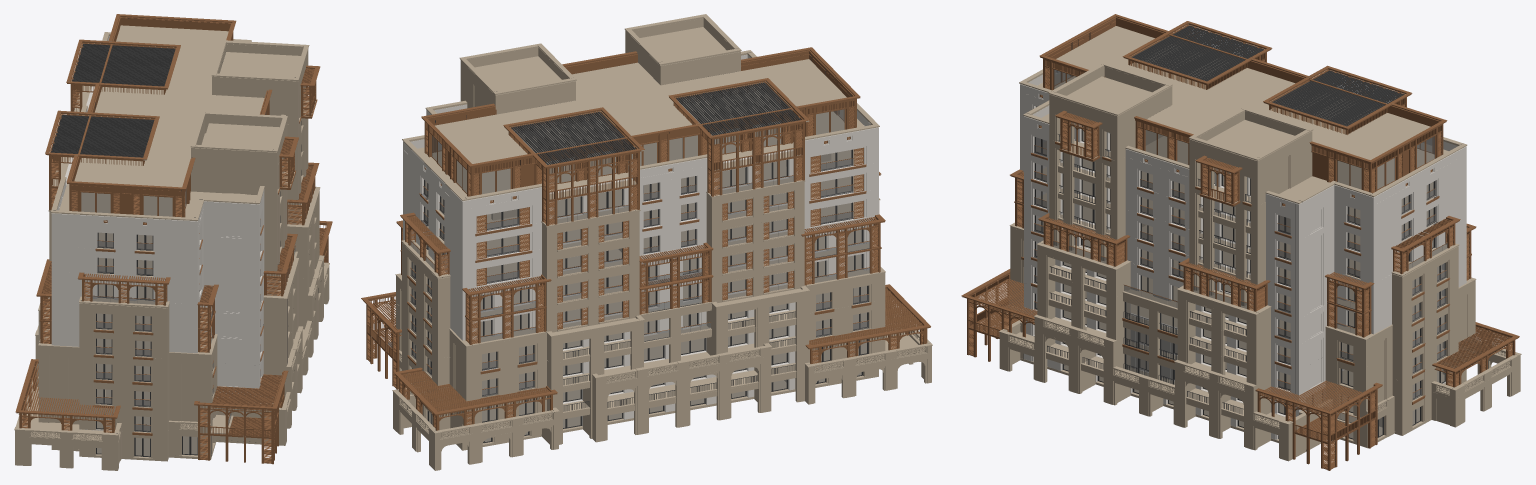
File: Arabian_b5_Import3DFiles.glb
The picture shows the model from 3 angles, left to right: view 1: azimuth 30°, elevation 25°; view 2: azimuth 150°, elevation 25°; view 3: azimuth 270°, elevation 25°; orthographic projection. The views are drawn at different scales.
Visible parts, largest first — view 1: mesh_material_from_multipatch_1, mesh_material_from_multipatch_3, mesh_material_from_multipatch, mesh_material_from_multipatch_2, mesh_material_from_multipatch_4; view 2: mesh_material_from_multipatch_1, mesh_material_from_multipatch_3, mesh_material_from_multipatch_4, mesh_material_from_multipatch, mesh_material_from_multipatch_2; view 3: mesh_material_from_multipatch_1, mesh_material_from_multipatch_3, mesh_material_from_multipatch, mesh_material_from_multipatch_2, mesh_material_from_multipatch_4.
Part boxes in pixels (x1,y1,x2,y2): mesh_material_from_multipatch_1: (14, 25, 329, 470); mesh_material_from_multipatch_3: (15, 14, 332, 464); mesh_material_from_multipatch: (51, 36, 264, 430); mesh_material_from_multipatch_2: (39, 18, 318, 457); mesh_material_from_multipatch_4: (44, 113, 312, 456); mesh_material_from_multipatch_1: (371, 14, 932, 470); mesh_material_from_multipatch_3: (361, 47, 930, 430); mesh_material_from_multipatch_4: (388, 83, 869, 441); mesh_material_from_multipatch: (403, 54, 878, 426); mesh_material_from_multipatch_2: (392, 52, 916, 442); mesh_material_from_multipatch_1: (998, 22, 1521, 461); mesh_material_from_multipatch_3: (961, 14, 1519, 470); mesh_material_from_multipatch: (1020, 70, 1466, 439); mesh_material_from_multipatch_2: (1023, 24, 1513, 451); mesh_material_from_multipatch_4: (1001, 37, 1447, 438).
Bounding box in the file's own units: 61.76 × 37.55 × 67.15.
